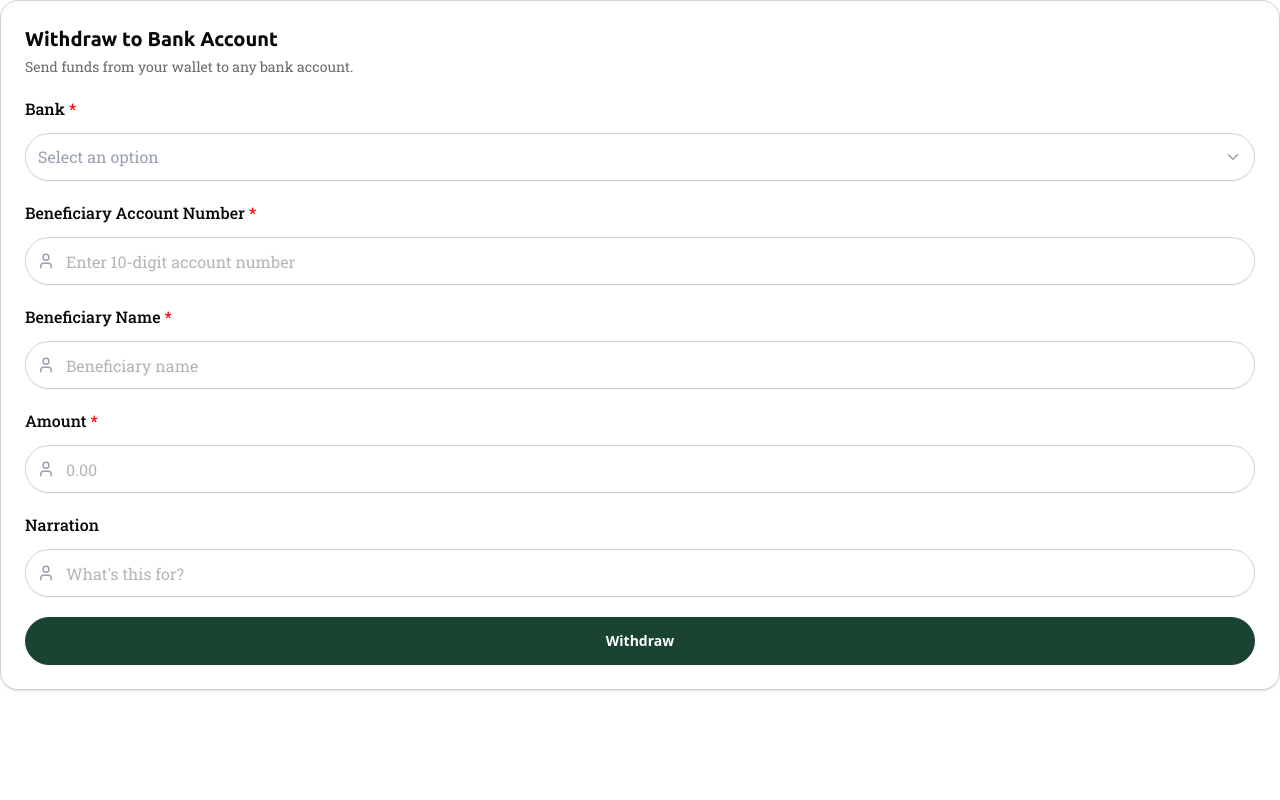
it: TransferForm › strips non-digit characters and caps the account number at 10 digits
Type "01a2b3456789xyz" into the field labelled "Beneficiary Account Number". click: [640, 261]
box: [25,237,1255,285]
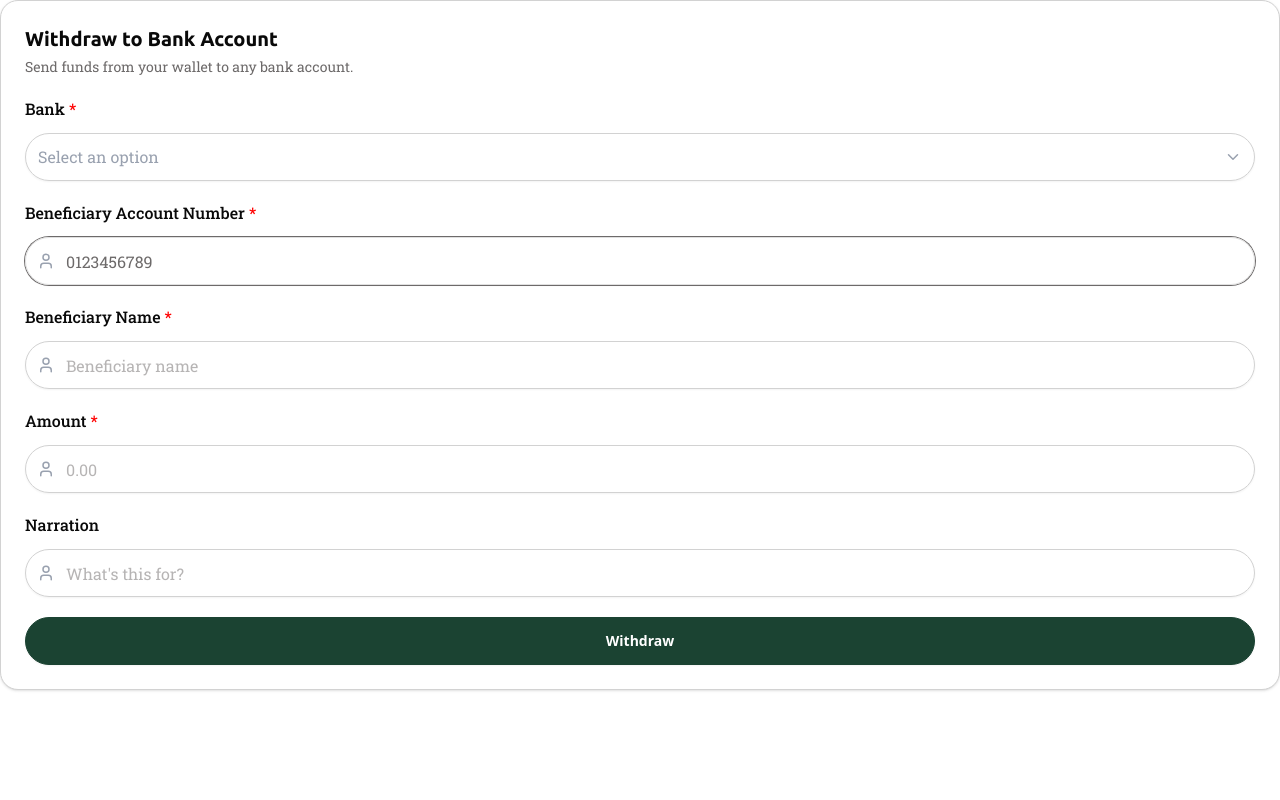
Now the field labelled "Beneficiary Account Number" holds "0123456789", box [25,237,1255,285]
